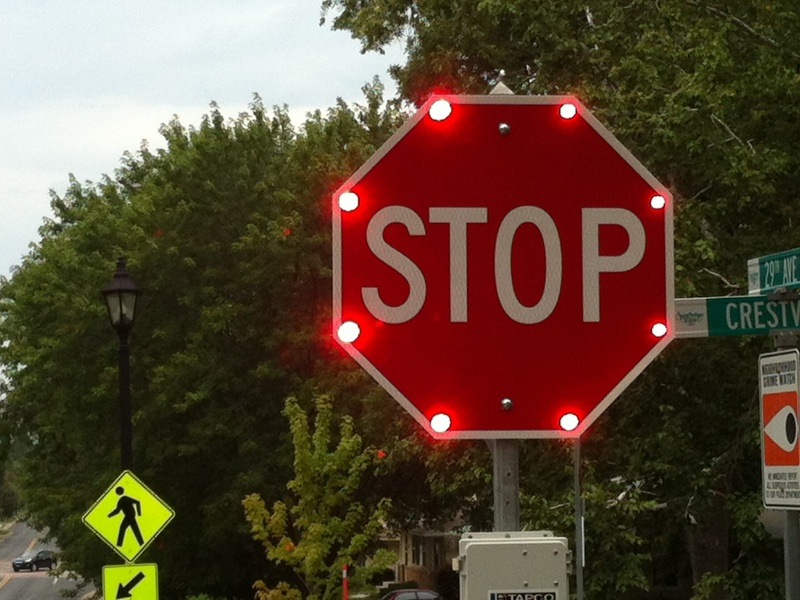stop sign: (324, 90, 684, 444)
